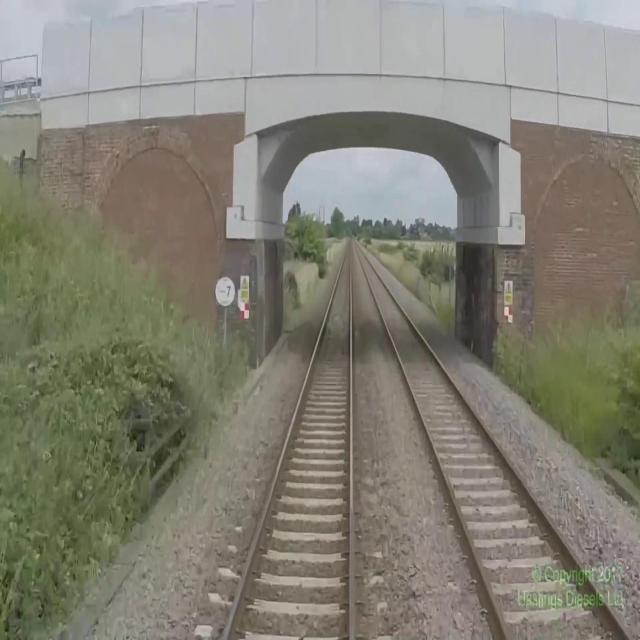rail-track: (354, 242, 629, 639), (226, 241, 350, 639)
